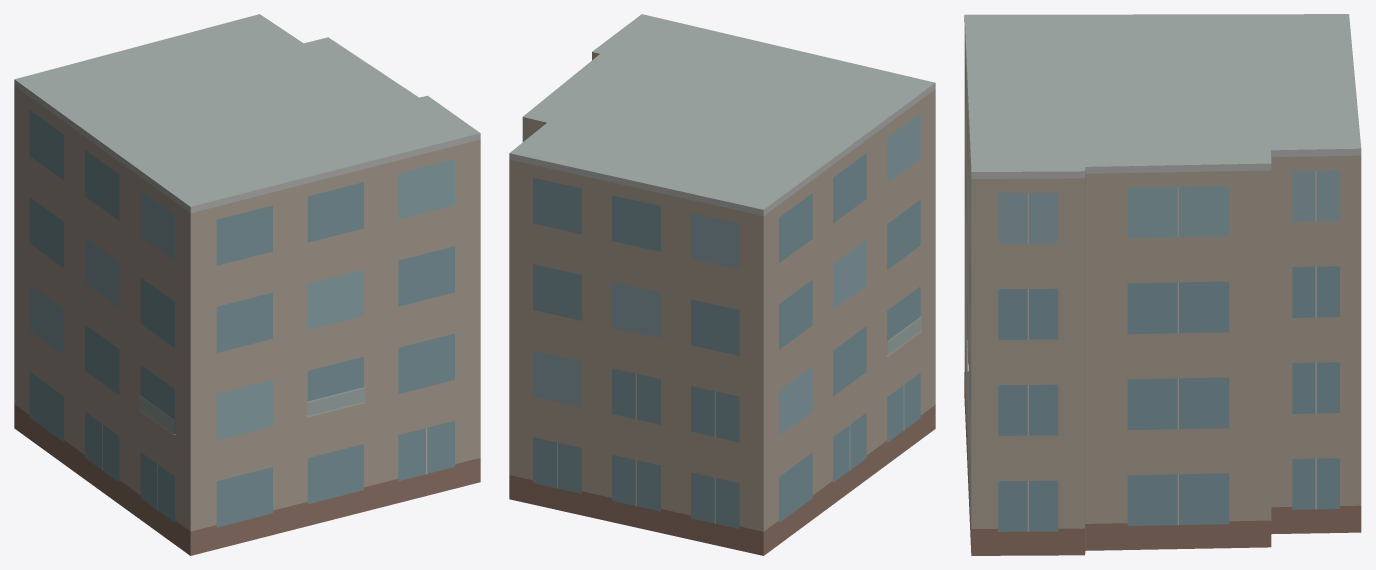
The model's file is survey-upis-32921572.glb.
The picture shows the model from 3 angles, left to right: view 1: azimuth 30°, elevation 25°; view 2: azimuth 150°, elevation 25°; view 3: azimuth 270°, elevation 25°; orthographic projection. The views are drawn at different scales.
Parts seen in each view (by area): view 1: survey-upis-32921572.tmp; view 2: survey-upis-32921572.tmp; view 3: survey-upis-32921572.tmp.
Boxes of the visible parts, x1,y1,x2,y2 form: survey-upis-32921572.tmp: [14, 14, 480, 555]; survey-upis-32921572.tmp: [509, 14, 935, 555]; survey-upis-32921572.tmp: [964, 14, 1361, 555].
Bounding box in the file's own units: 11.93 × 13.5 × 12.66.
